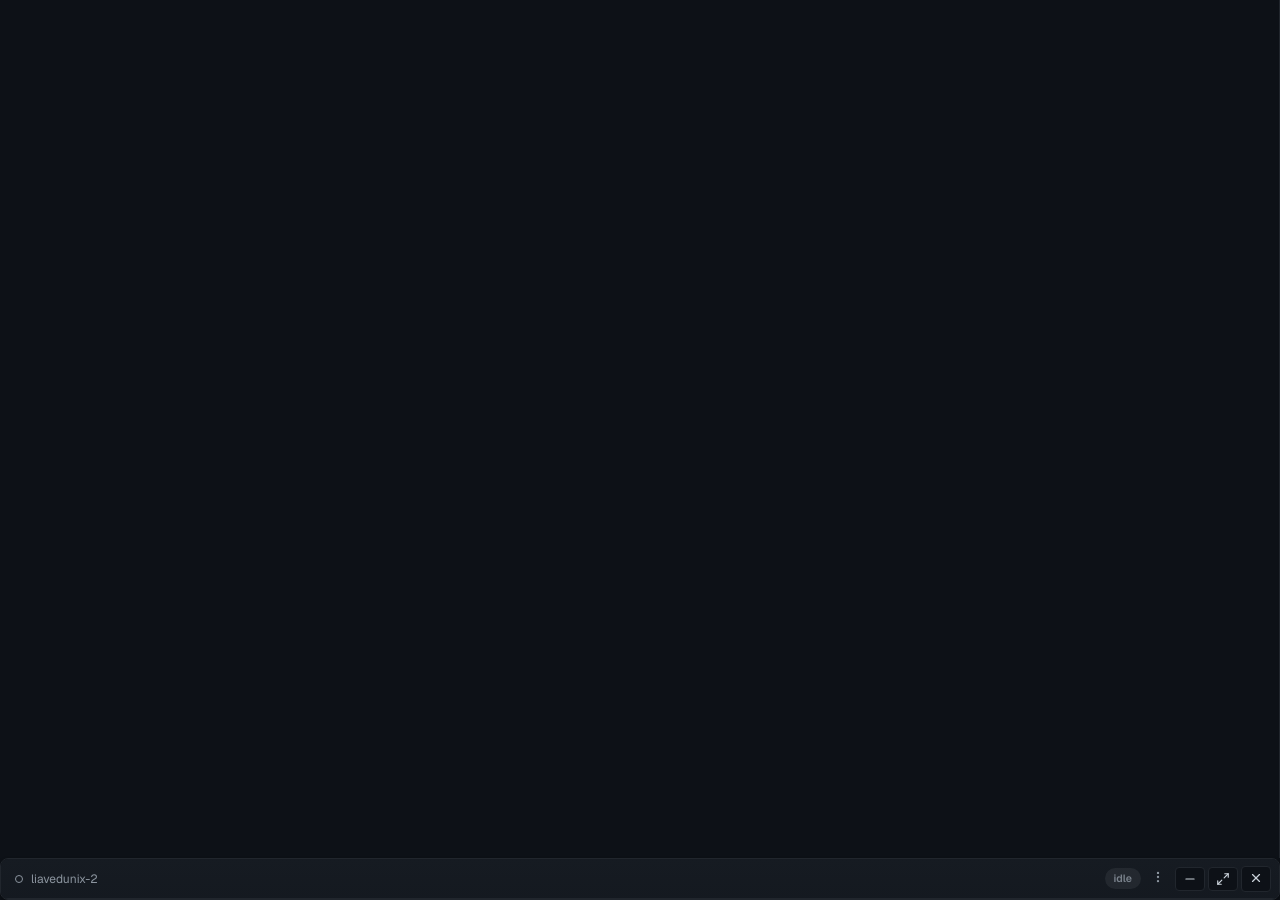
Test case: kill asks first, over the pane, and Cancel leaves it alone
(page scrolled)
Click the button with class "gs-kill-btn" at (1256, 878), box [1241,866,1271,892]
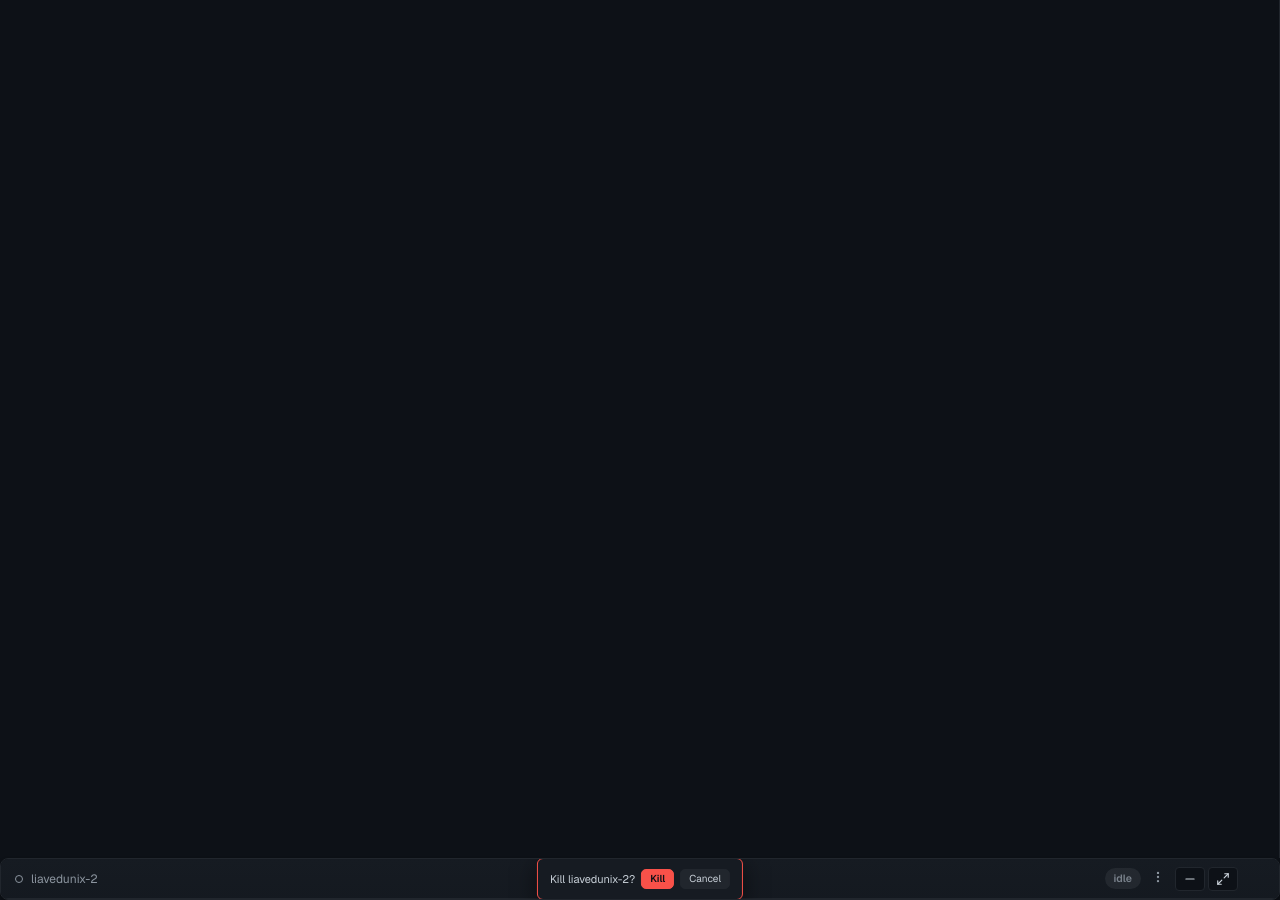
expect the text with class "kanban-confirm-msg" reads "Kill liavedunix-2?": met, box [550,871,635,887]
Click the button "Cancel" at (705, 879), box [680,869,730,889]
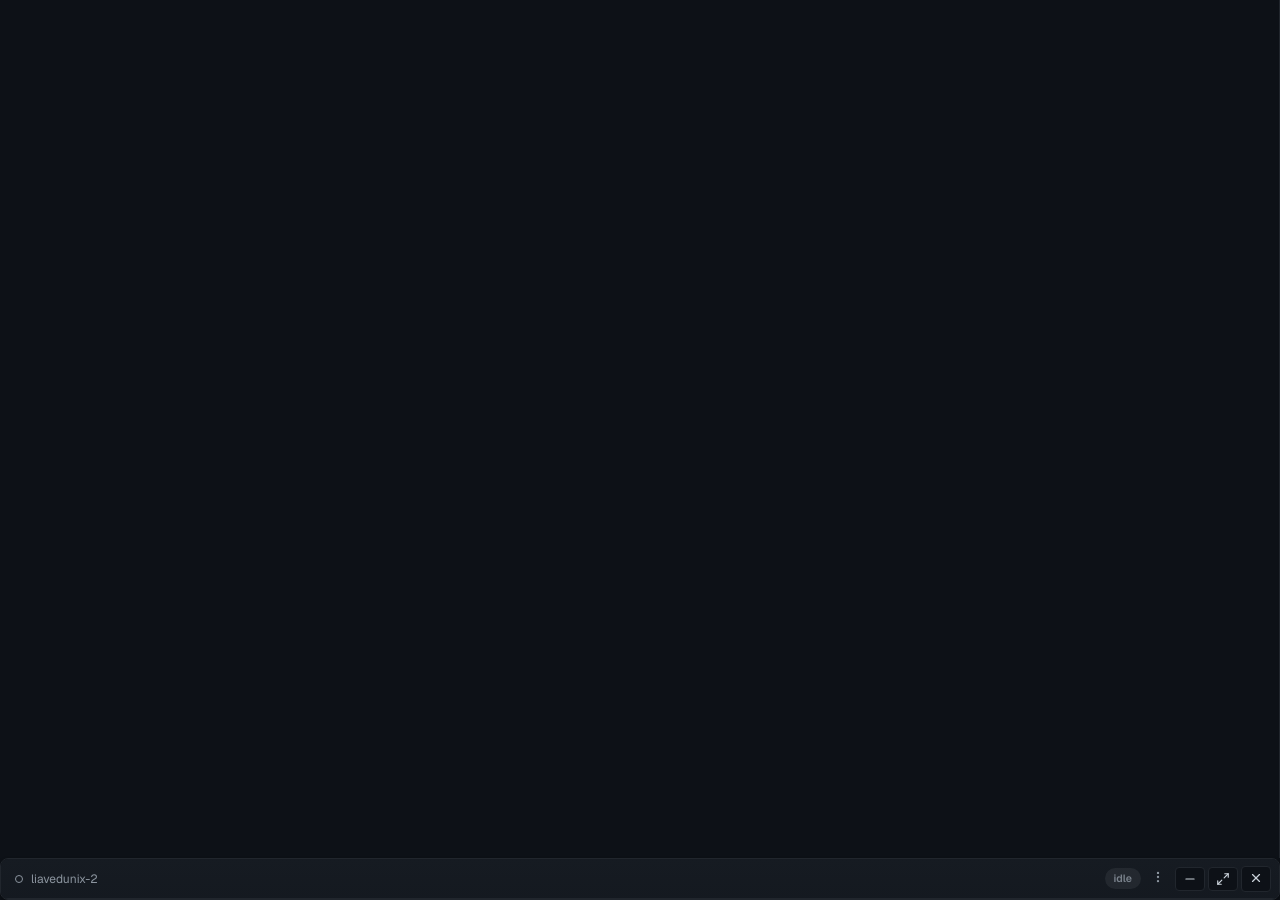
expect the dialog is gone: met
